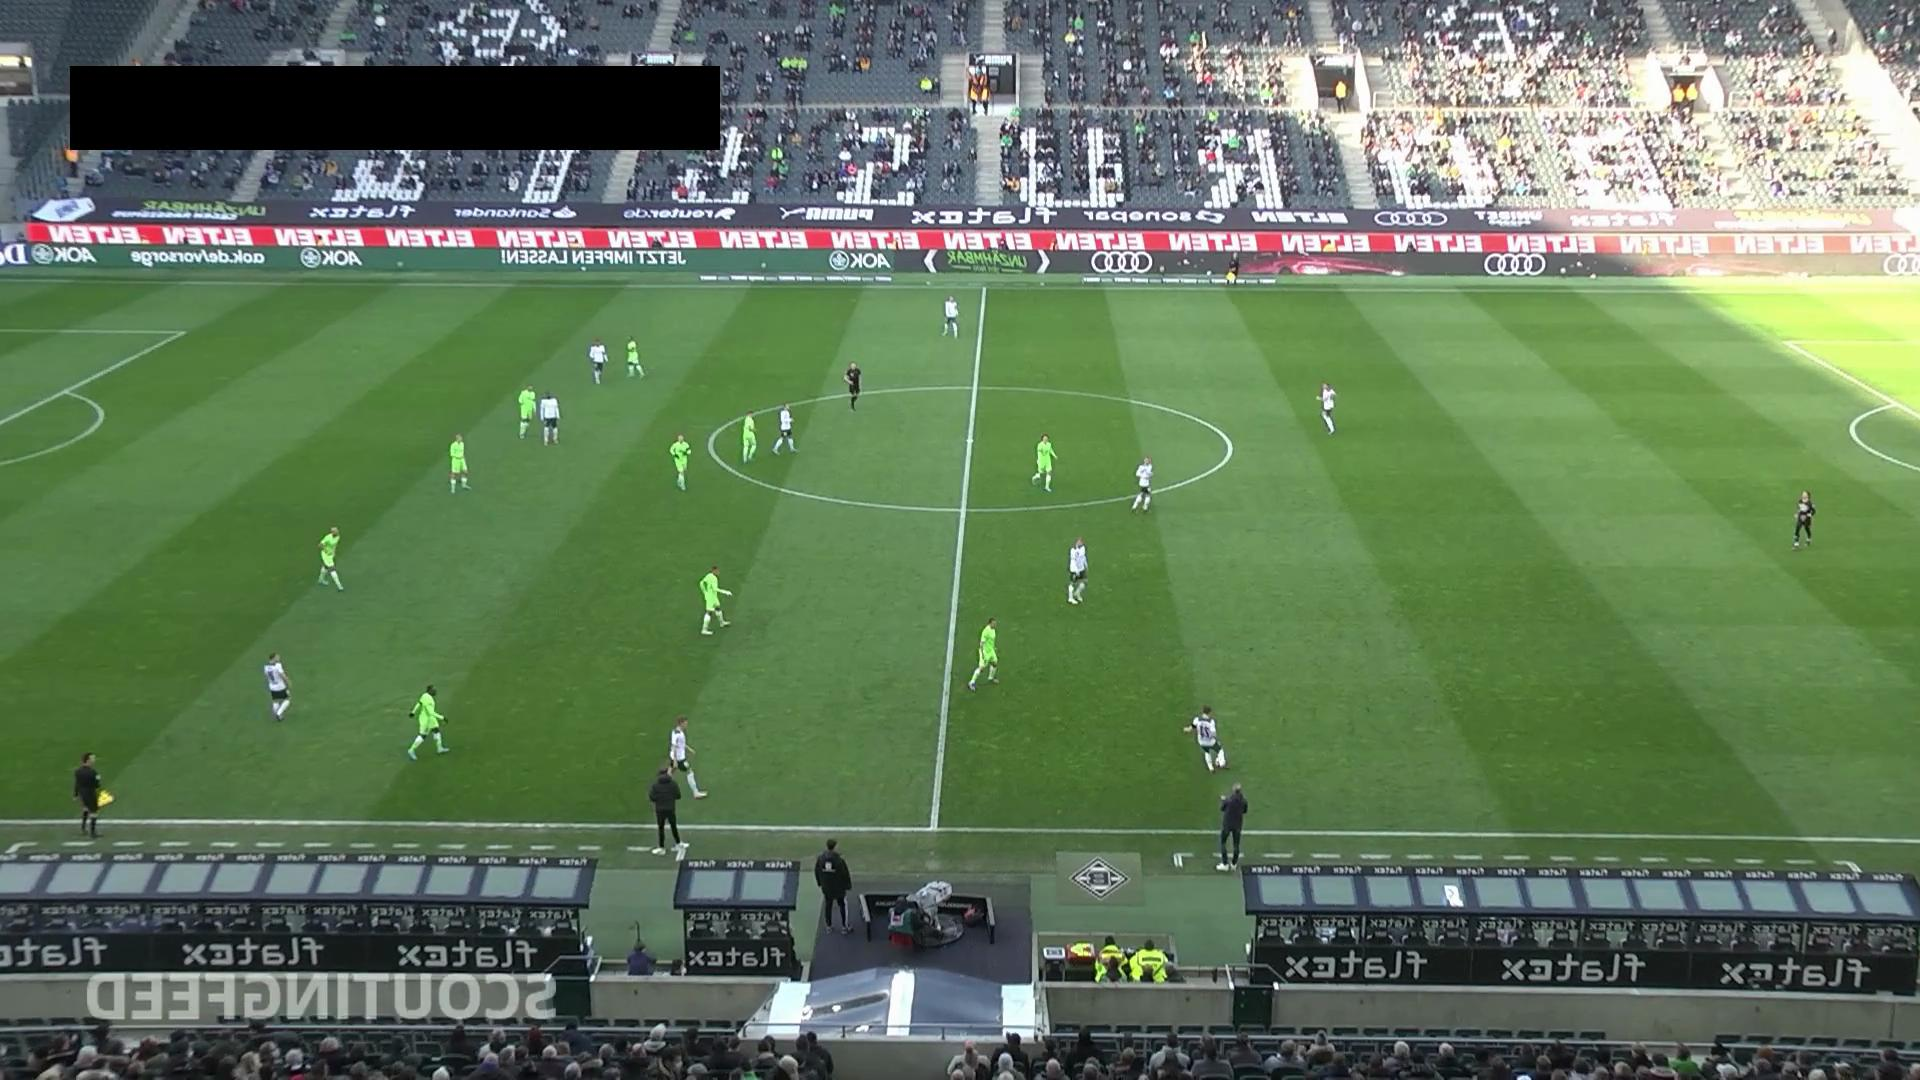ball: (1215, 756, 1227, 769)
player: (668, 715, 708, 800), (407, 683, 450, 760), (1185, 704, 1227, 774), (967, 616, 999, 691), (698, 564, 731, 635), (263, 650, 292, 722), (316, 525, 345, 591), (1790, 490, 1817, 551), (1033, 433, 1060, 491), (1067, 535, 1089, 605), (772, 402, 800, 456), (448, 432, 472, 493), (1130, 455, 1155, 512), (669, 433, 692, 491), (539, 390, 561, 445), (517, 384, 537, 439), (1317, 380, 1337, 435), (587, 336, 608, 385), (741, 410, 758, 463), (625, 337, 646, 378), (942, 293, 960, 338)
referee: (73, 752, 114, 836), (843, 360, 862, 411), (1226, 254, 1239, 284)
